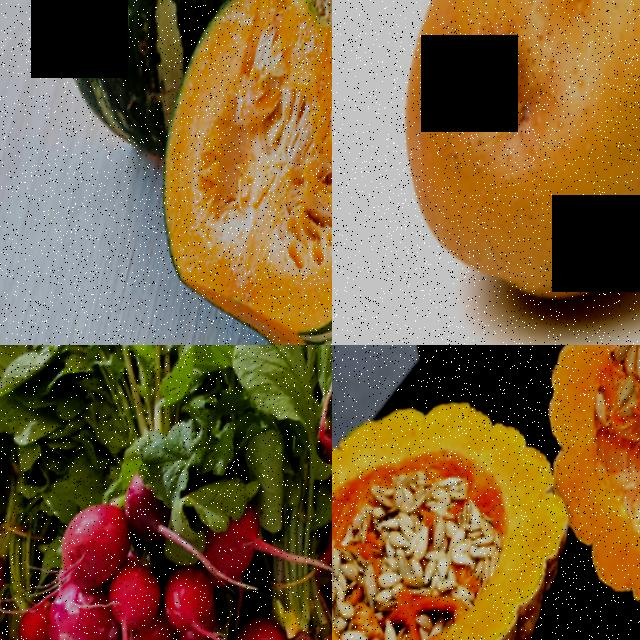potato: (373, 0, 640, 345)
pumpkin: (143, 0, 332, 345), (332, 380, 562, 640), (529, 345, 640, 640)
radishes: (23, 450, 284, 640), (214, 523, 332, 640)
